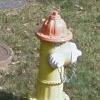Hydrant: (26, 5, 85, 100)
